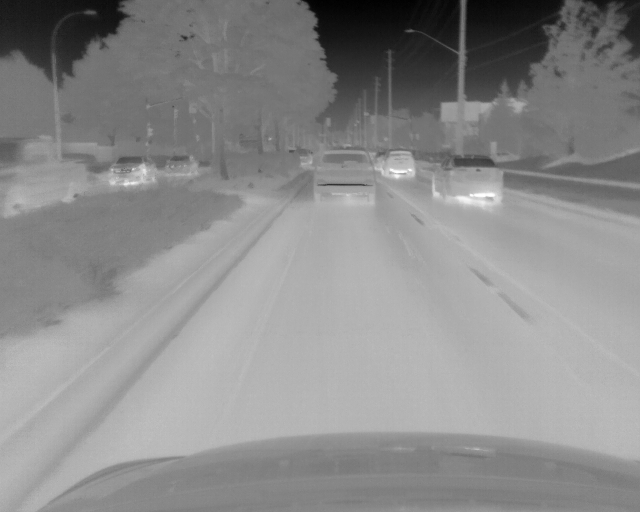car: (1, 138, 89, 219), (429, 155, 504, 207), (311, 150, 376, 205), (108, 155, 157, 184), (384, 150, 416, 177), (165, 156, 199, 176)
